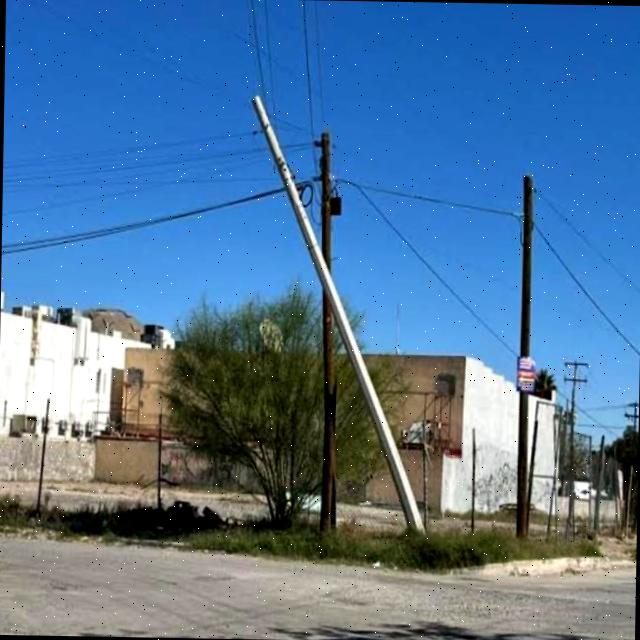Broken Pole: (249, 91, 425, 532)
